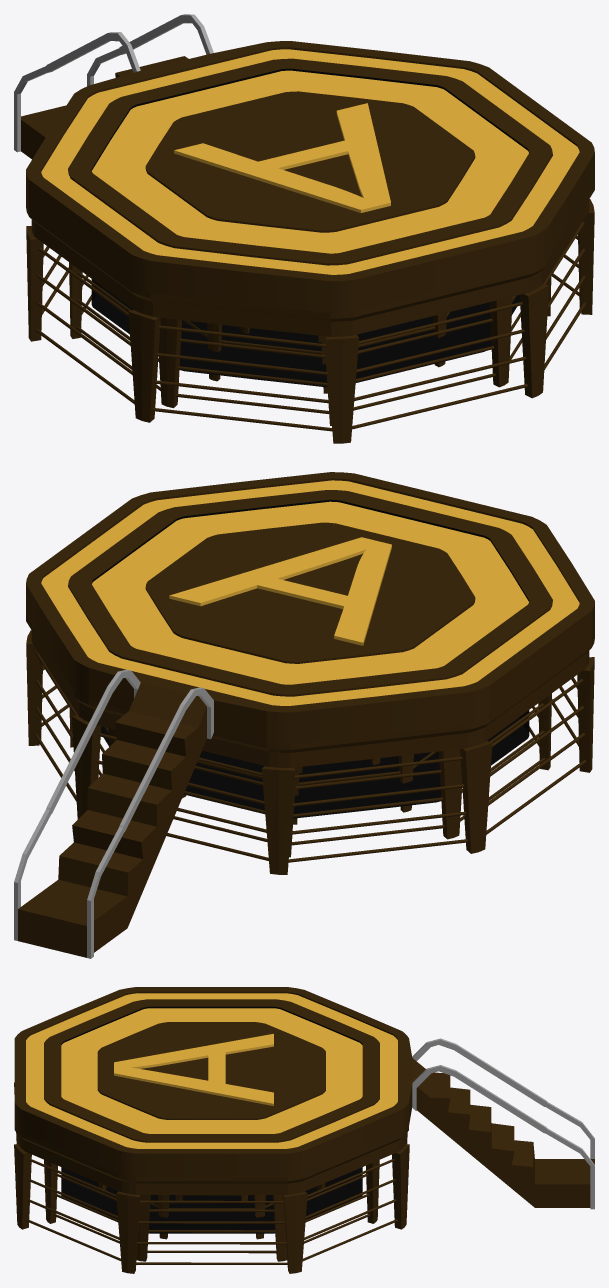
The model's file is helipad.glb.
3 views of the same model, one above another, from view 1: azimuth 30°, elevation 25°; view 2: azimuth 150°, elevation 25°; view 3: azimuth 270°, elevation 25° (orthographic). The views are drawn at different scales.
Visible parts, largest first — view 1: Box001, TextPlus001; view 2: Box001, TextPlus001; view 3: Box001, TextPlus001.
Boxes of the visible parts, x1=… form: Box001: x1=14, y1=14, x2=594, y2=443; TextPlus001: x1=174, y1=103, x2=390, y2=212; Box001: x1=14, y1=472, x2=594, y2=958; TextPlus001: x1=169, y1=537, x2=391, y2=645; Box001: x1=14, y1=987, x2=594, y2=1273; TextPlus001: x1=114, y1=1033, x2=273, y2=1105.
Bounding box in the file's own units: 2.98 × 1.19 × 4.37.
